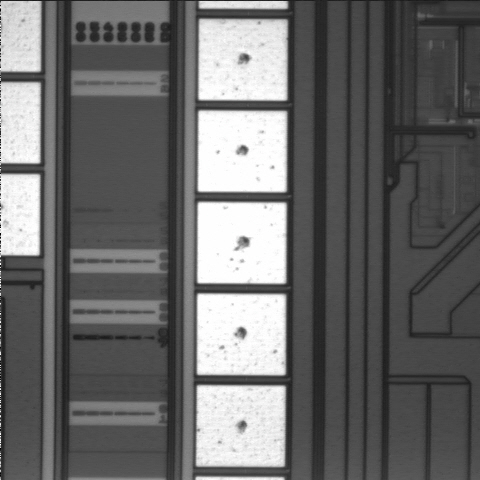pad: (198, 19, 287, 101), (197, 202, 286, 284), (196, 385, 285, 467), (198, 111, 287, 192), (197, 294, 286, 375)
